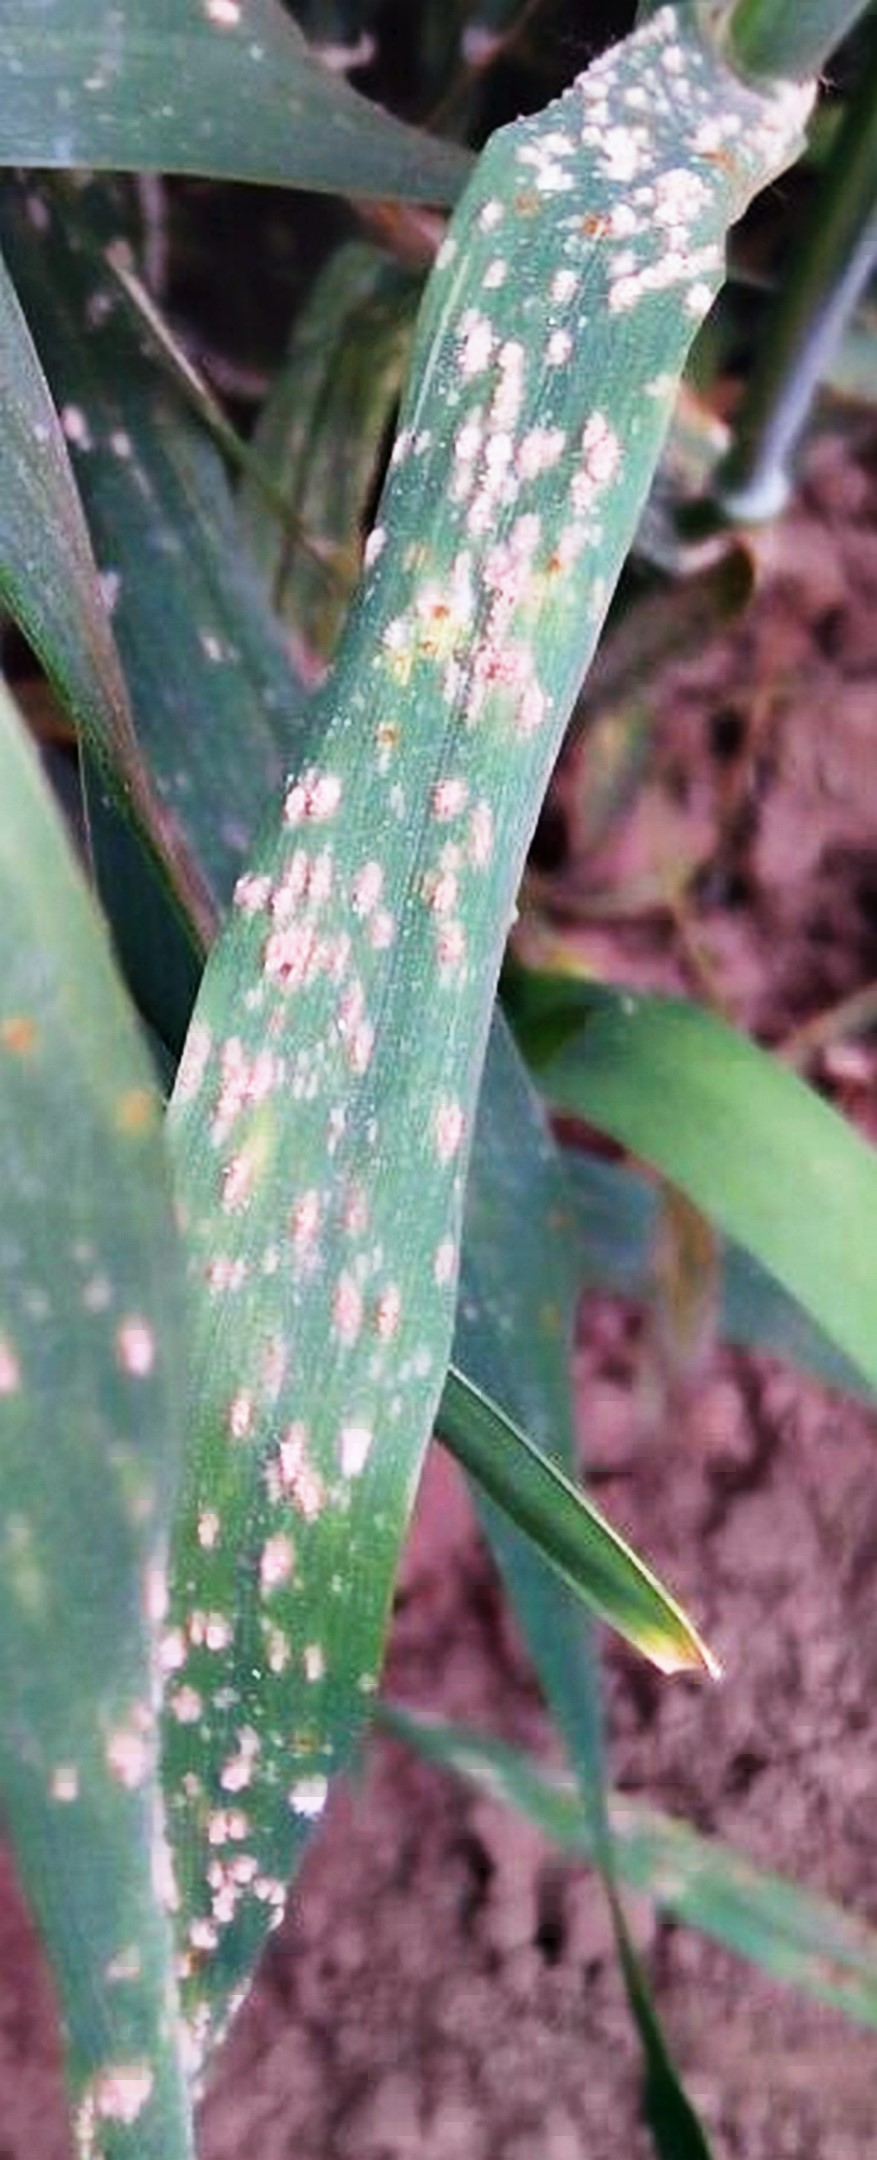Powdery Mildew: (189, 94, 760, 1747)
